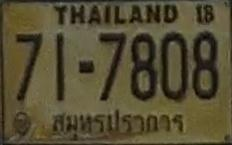0: (160, 32, 187, 101)
1: (54, 34, 65, 100)
7: (15, 33, 42, 101), (98, 32, 124, 100)
8: (191, 30, 218, 98), (130, 33, 156, 100)
SPK: (44, 104, 189, 139)
